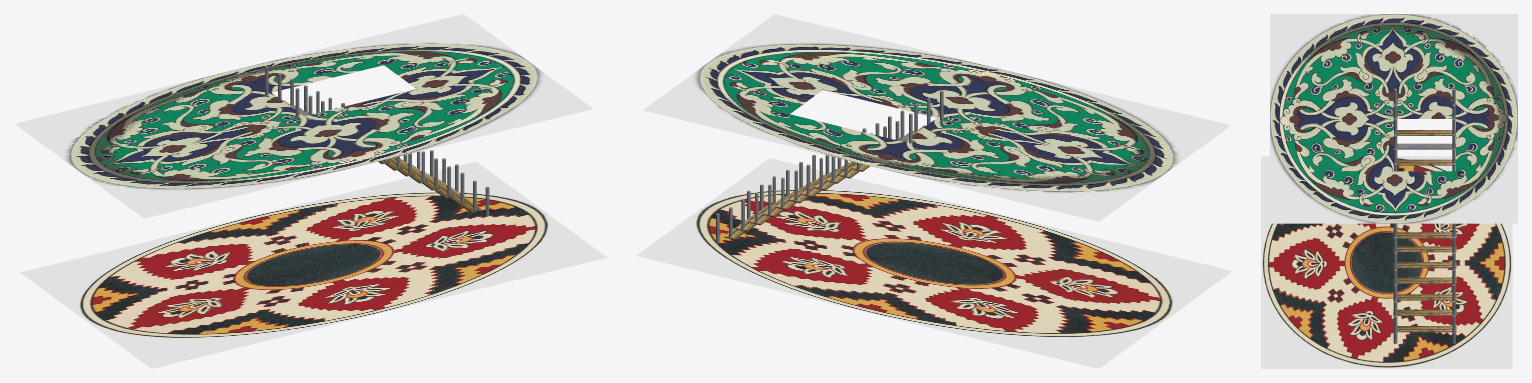
File: building.glb
3 renders of one model, left to right at view 1: azimuth 30°, elevation 25°; view 2: azimuth 150°, elevation 25°; view 3: azimuth 270°, elevation 25°, orthographic. The views are drawn at different scales.
Visible parts, largest first — view 1: Plane, Plane.001; view 2: Plane, Plane.001; view 3: Plane.001, Plane, Cube.007, Cube.011, Cube.008, Cube.009, Cube.010, Cube.012, Cube.013, Cube.002, Cube.014, Cube.
Boxes of the visible parts, bbox=[...] form: Plane: bbox=[20, 161, 607, 368]; Plane.001: bbox=[14, 14, 593, 218]; Plane: bbox=[636, 158, 1232, 368]; Plane.001: bbox=[643, 14, 1230, 221]; Plane.001: bbox=[1270, 14, 1517, 223]; Plane: bbox=[1261, 156, 1512, 368]; Cube.007: bbox=[1393, 232, 1456, 238]; Cube.011: bbox=[1393, 294, 1456, 300]; Cube.008: bbox=[1393, 246, 1456, 252]; Cube.009: bbox=[1393, 262, 1456, 268]; Cube.010: bbox=[1393, 277, 1456, 283]; Cube.012: bbox=[1393, 309, 1456, 315]; Cube.013: bbox=[1393, 326, 1456, 332]; Cube.002: bbox=[1397, 159, 1455, 165]; Cube.014: bbox=[1397, 143, 1455, 149]; Cube: bbox=[1397, 130, 1455, 135].
Bounding box in the file's own units: 20.48 × 7.49 × 10.39.
4 materials, 4 textured.
